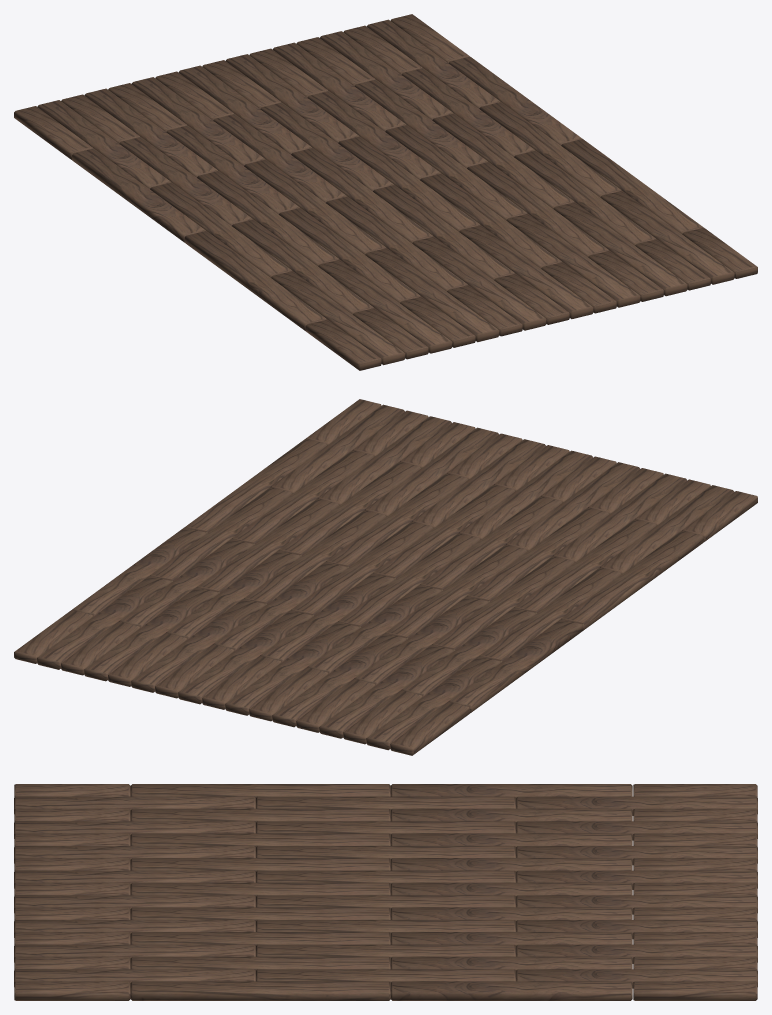
Rendered from SM_WoodFloor9x6.fbx.
The picture shows the model from 3 angles, top to bottom: view 1: azimuth 30°, elevation 25°; view 2: azimuth 150°, elevation 25°; view 3: azimuth 270°, elevation 25°; orthographic projection. The views are drawn at different scales.
Visible parts, largest first — view 1: SM_WoodFloor9x6; view 2: SM_WoodFloor9x6; view 3: SM_WoodFloor9x6.
Boxes of the visible parts, x1=… form: SM_WoodFloor9x6: x1=14, y1=14, x2=757, y2=370; SM_WoodFloor9x6: x1=14, y1=399, x2=757, y2=755; SM_WoodFloor9x6: x1=14, y1=784, x2=757, y2=1000.
Bounding box in the file's own units: 600 × 11.64 × 900.
